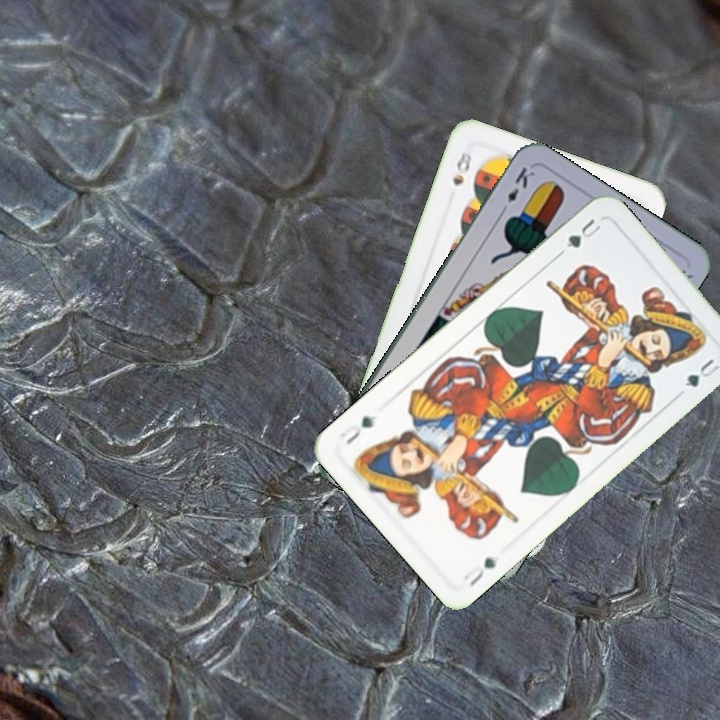EK: (496, 163, 538, 217)
GU: (562, 214, 604, 251), (459, 553, 500, 590)
S8: (448, 146, 475, 188)
